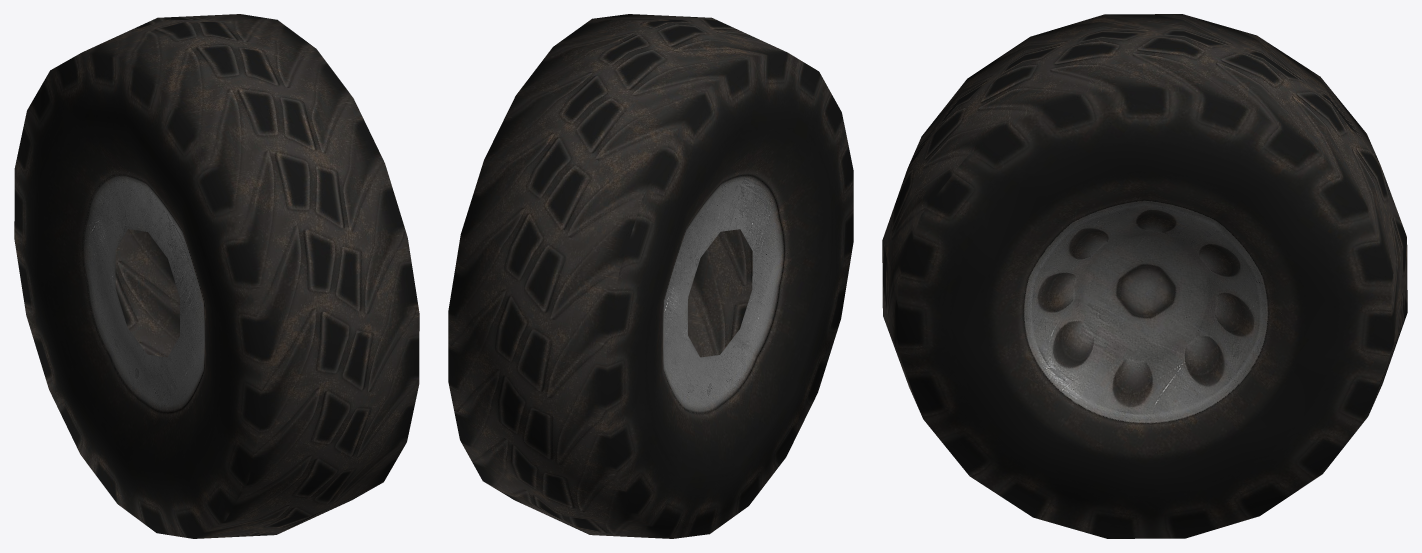
Rendered from T800 Wheel FL.fbx.
3 views of the same model, side by side, from view 1: azimuth 30°, elevation 25°; view 2: azimuth 150°, elevation 25°; view 3: azimuth 270°, elevation 25° (orthographic).
Parts seen in each view (by area): view 1: T800 Wheel FL; view 2: T800 Wheel FL; view 3: T800 Wheel FL.
Part boxes in pixels (x1=…): T800 Wheel FL: x1=14, y1=14, x2=419, y2=538; T800 Wheel FL: x1=448, y1=14, x2=853, y2=538; T800 Wheel FL: x1=882, y1=14, x2=1407, y2=538.
Bounding box in the file's own units: 48.09 × 124 × 124.
